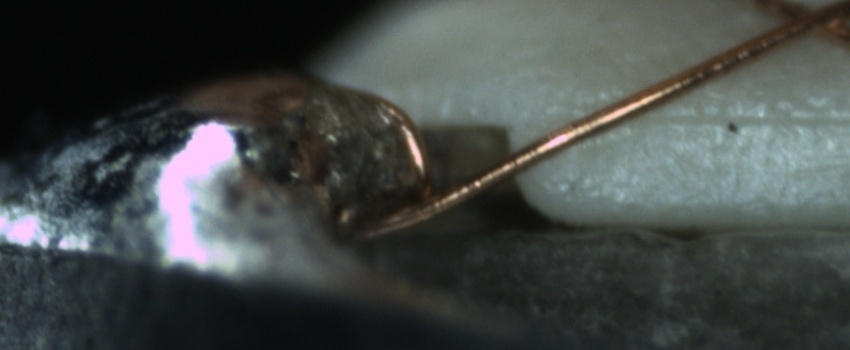CL: (760, 0, 842, 44)
DL: (609, 83, 846, 152)
TE: (371, 80, 433, 198)
